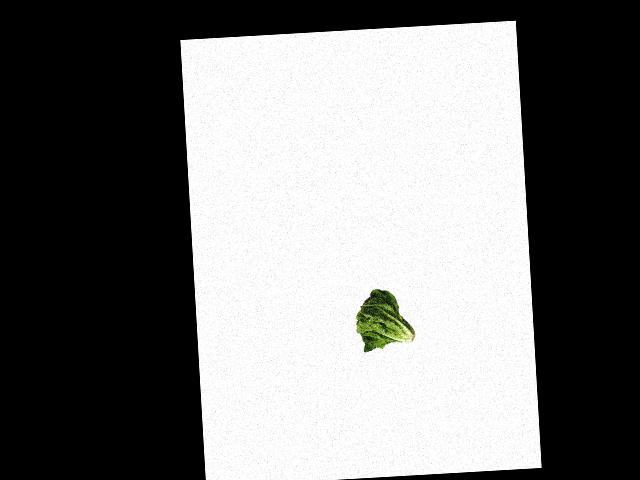lettuce: (351, 285, 419, 354)
